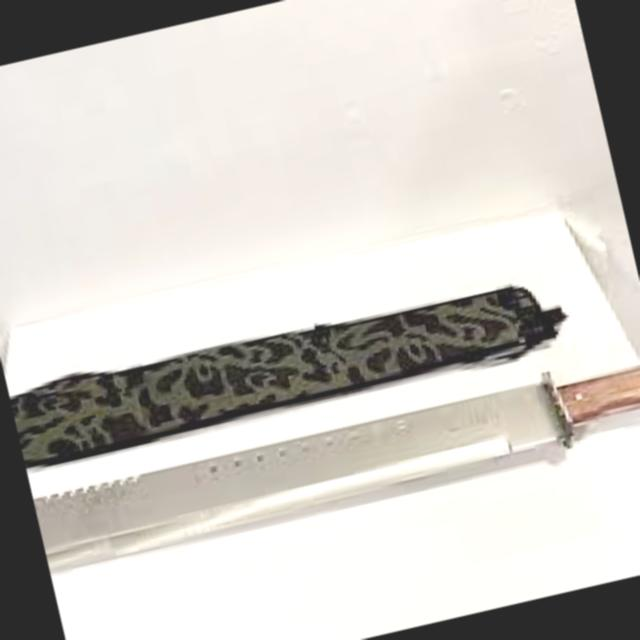long sword: (36, 342, 640, 601)
